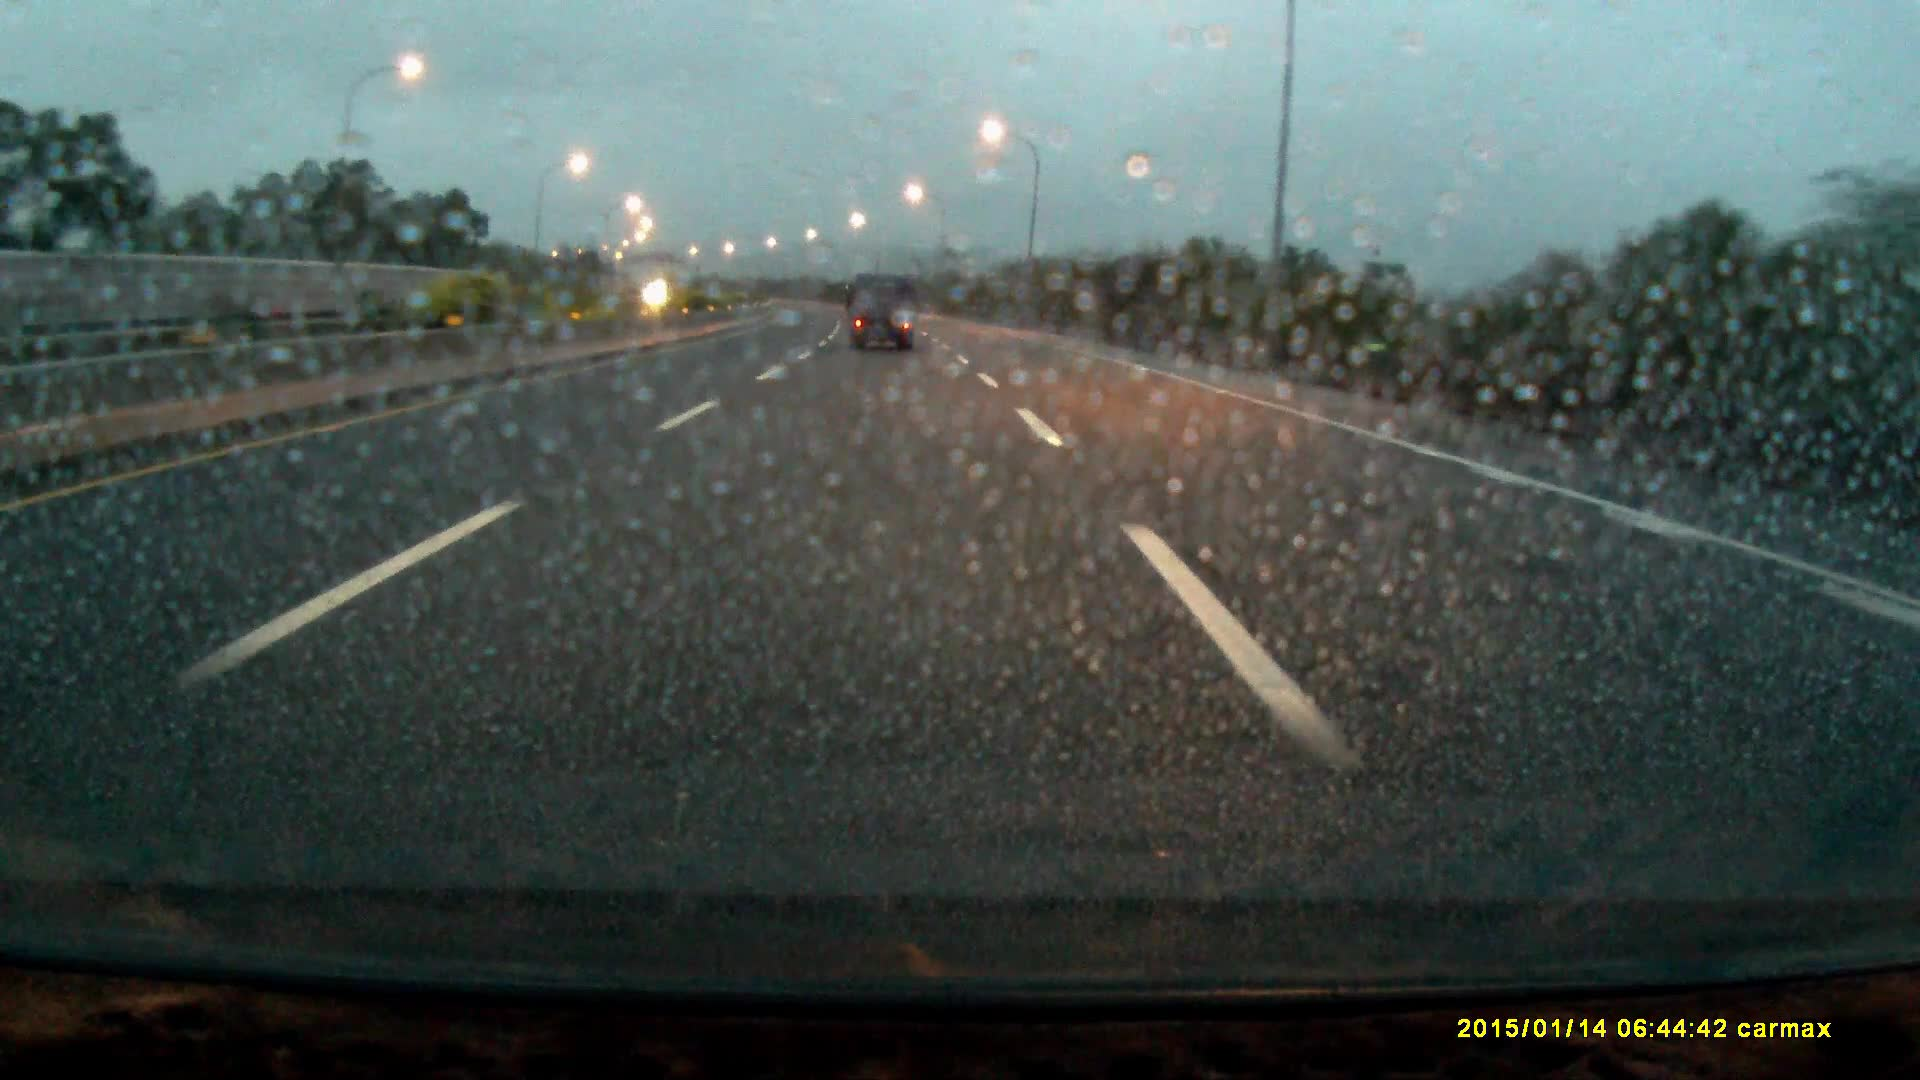vehicle: (851, 274, 914, 353)
